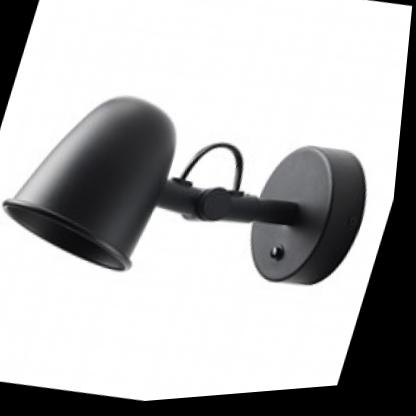Lamp: (0, 7, 413, 411)
